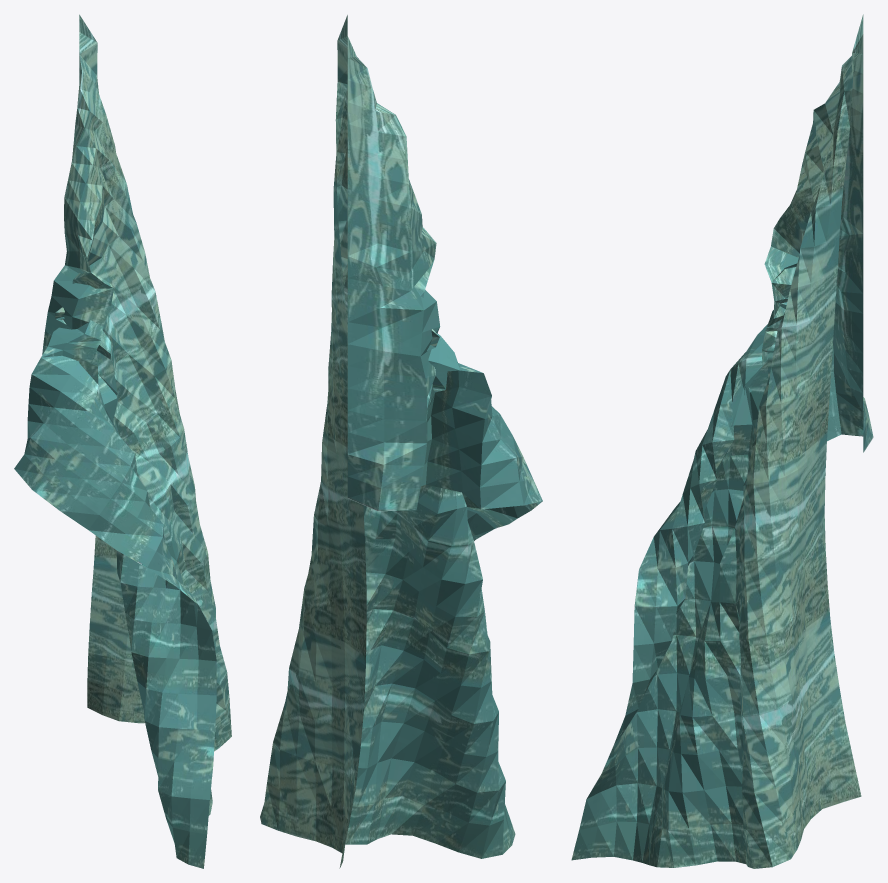
File: water_cloth.dae
3 renders of one model, left to right at view 1: azimuth 30°, elevation 25°; view 2: azimuth 150°, elevation 25°; view 3: azimuth 270°, elevation 25°, orthographic. The views are drawn at different scales.
Parts seen in each view (by area): view 1: node; view 2: node; view 3: node.
Boxes of the visible parts, x1,y1,x2,y2 form: node: (14, 14, 231, 868); node: (260, 15, 542, 868); node: (571, 14, 873, 868).
Size of the model in its own units: 0.201 by 0.677 by 0.218.
